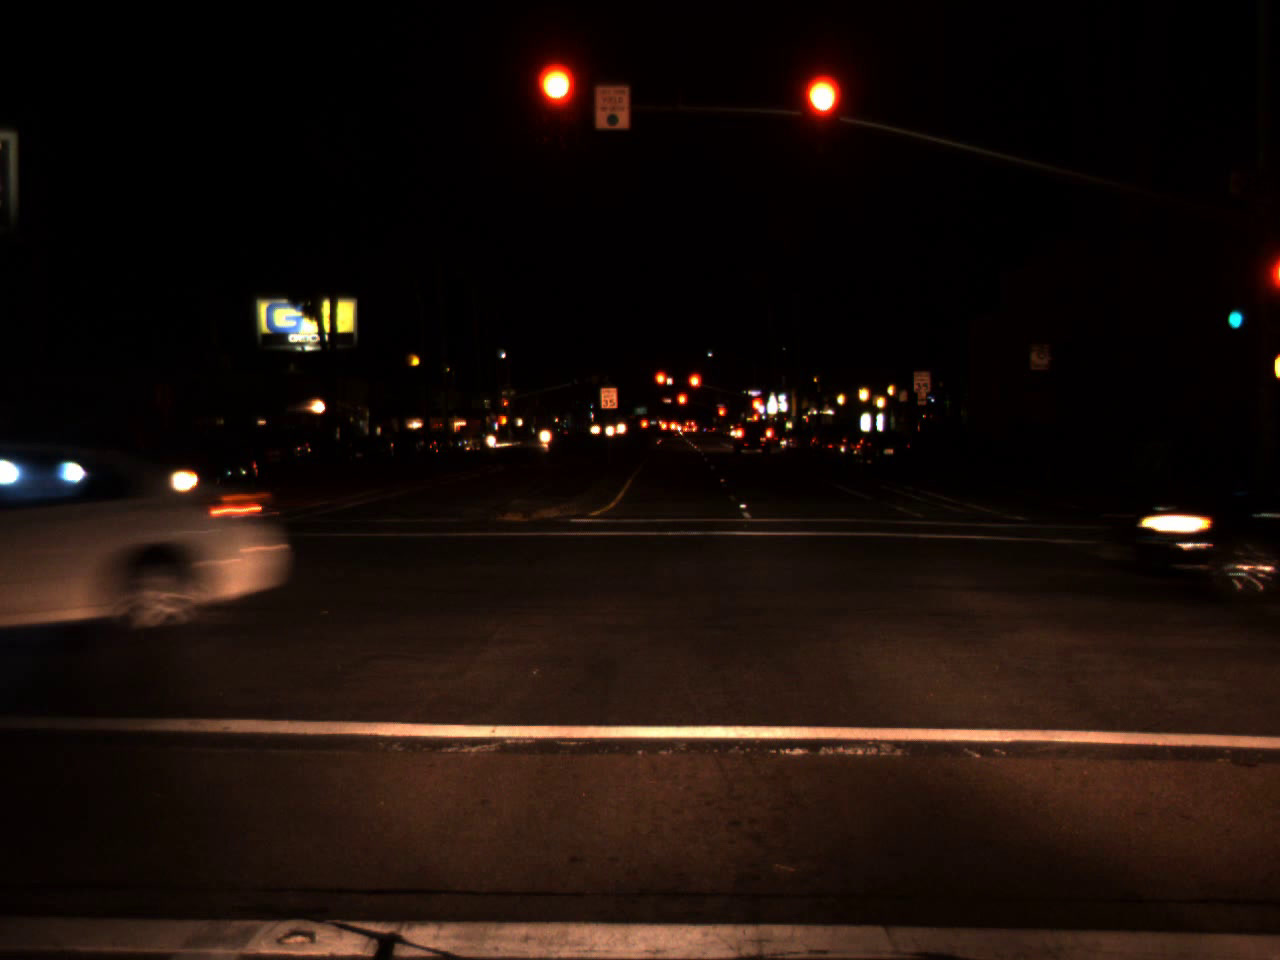stop: (538, 65, 578, 143), (802, 76, 842, 154), (653, 369, 671, 401), (686, 371, 702, 403), (676, 391, 688, 418), (750, 396, 763, 414), (717, 406, 726, 424), (503, 399, 509, 412)
